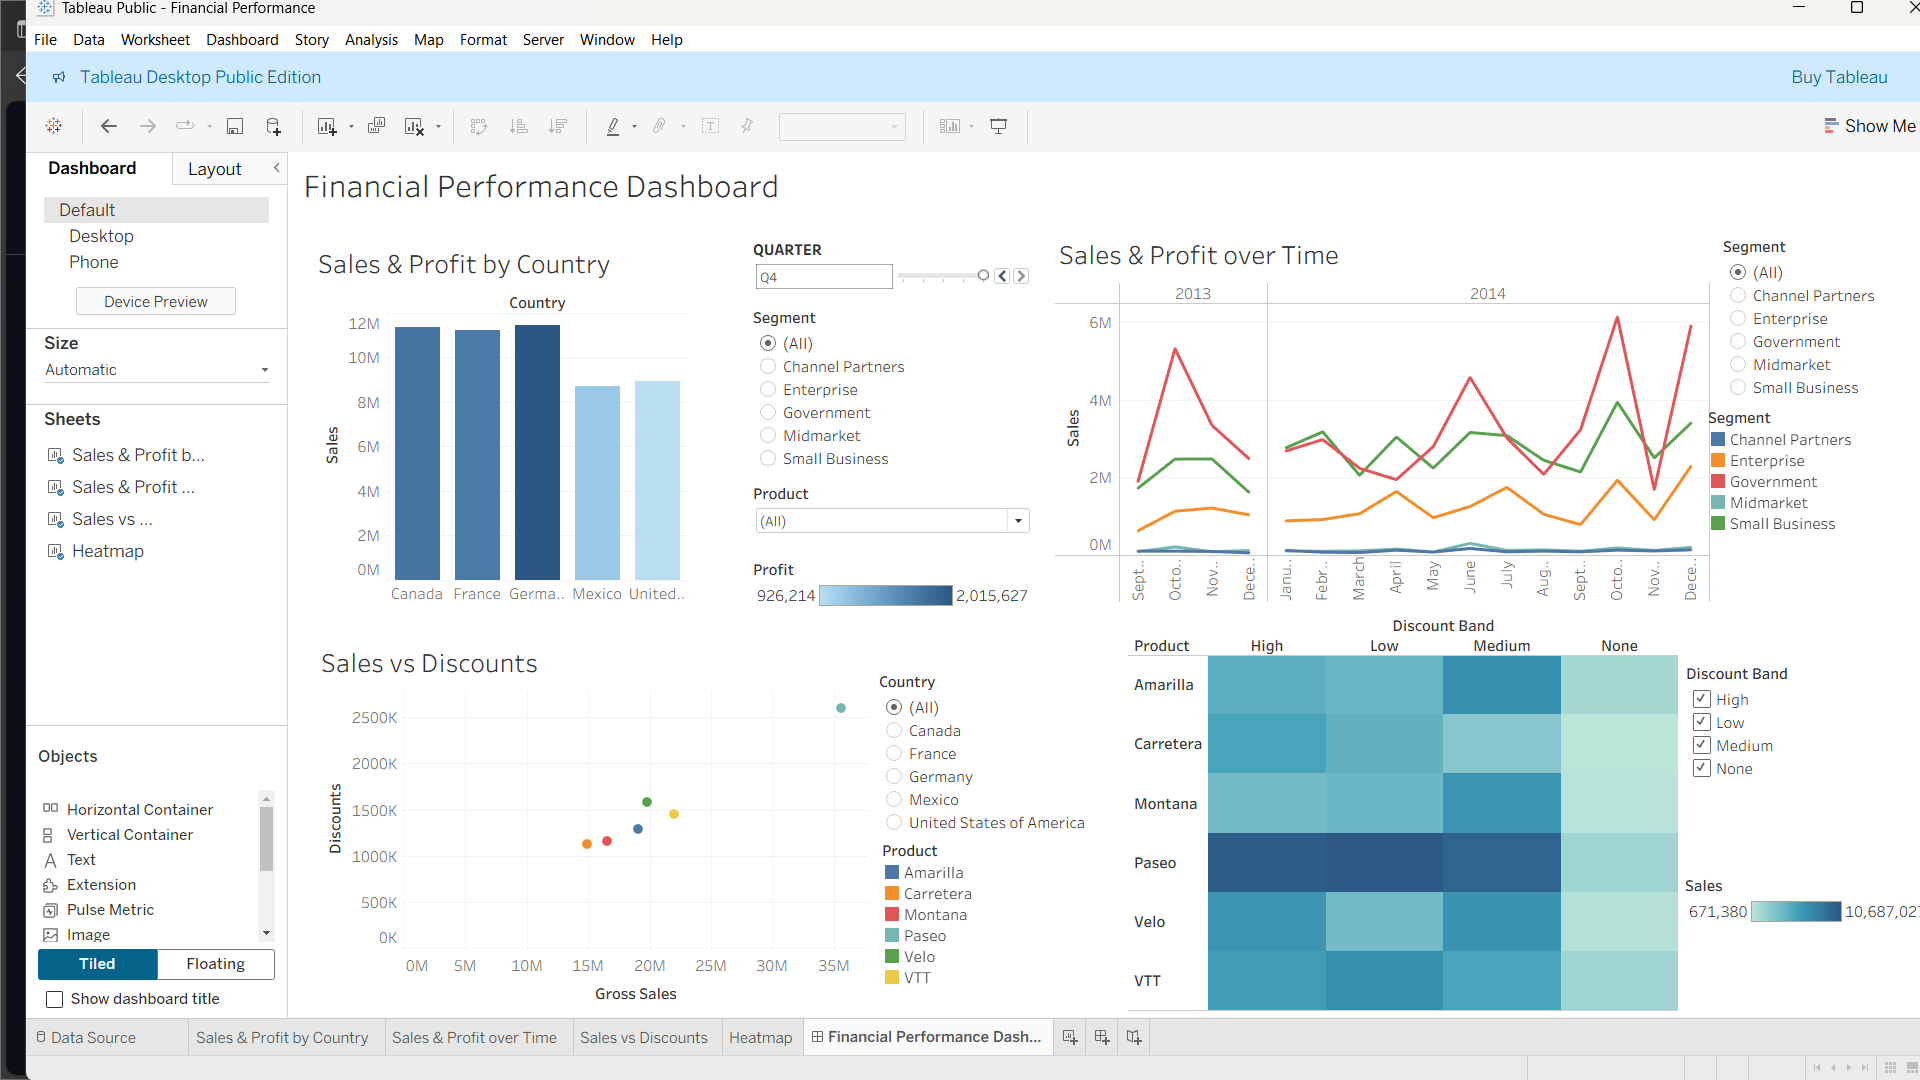

The dashboard page shown, as its layout file describes it:
{"tool":"tableau","page":{"name":"Financial Performance Dashboard","canvas":[1000,1000],"units":"permille","ordinal":0},"visuals":[{"type":"title","box":[5.3,9.3,989.5,58.1]},{"type":"worksheet","title":"Sales & Profit over Time","mark":"Line","rows":["Sales"],"cols":["Date","Month Name"],"box":[462.8,94.1,395.5,427.4]},{"type":"filter","title":"Sales & Profit by Country","param":"[federated.110apfc1dmbb1x19eawlh1p5id7r].[qr:Date:ok]","box":[278.2,96.4,174,79]},{"type":"filter","title":"Sales & Profit over Time","param":"[federated.110apfc1dmbb1x19eawlh1p5id7r].[none:Segment:nk]","box":[866.2,97.6,126.6,192.8]},{"type":"worksheet","title":"Sales & Profit by Country","mark":"Automatic","rows":["Sales"],"cols":["Country"],"box":[15.8,104.5,332.9,436.7]},{"type":"filter","title":"Sales & Profit by Country","param":"[federated.110apfc1dmbb1x19eawlh1p5id7r].[none:Segment:nk]","box":[278.2,175.4,174,204.4]},{"type":"legend","title":"Sales & Profit over Time","param":"[federated.110apfc1dmbb1x19eawlh1p5id7r].[none:Segment:nk]","box":[857,295,132.5,217.2]},{"type":"filter","title":"Sales & Profit by Country","param":"[federated.110apfc1dmbb1x19eawlh1p5id7r].[none:Product:nk]","box":[278.2,379.8,174,88.3]},{"type":"legend","title":"Sales & Profit by Country","param":"[federated.110apfc1dmbb1x19eawlh1p5id7r].[sum:Profit:qk]","box":[278.2,468.1,174,63.9]},{"type":"worksheet","title":"Heatmap","mark":"Automatic","rows":["Product"],"cols":["Discount Band"],"box":[506.9,535.4,332.2,457.6]},{"type":"worksheet","title":"Sales vs Discounts","mark":"Automatic","rows":["Discounts"],"cols":["Gross Sales"],"box":[17.8,565.6,332.2,427.4]},{"type":"filter","title":"Heatmap","param":"[federated.110apfc1dmbb1x19eawlh1p5id7r].[none:Discount Band:nk]","box":[843.8,591.2,156.9,159.1]},{"type":"filter","title":"Sales vs Discounts","param":"[federated.110apfc1dmbb1x19eawlh1p5id7r].[none:Country:nk]","box":[356.6,600.5,143.7,192.8]},{"type":"legend","title":"Sales vs Discounts","param":"[federated.110apfc1dmbb1x19eawlh1p5id7r].[none:Product:nk]","box":[358.6,795.6,136.4,171.9]},{"type":"legend","title":"Heatmap","param":"[federated.110apfc1dmbb1x19eawlh1p5id7r].[sum:Sales:qk]","box":[843.1,836.2,148.3,103.4]}]}

Visuals, with their boxes on the dashboard's canvas, which has no fixed pixel size, in thousandths of its width and height (x1, y1, x2, y2). These are canvas units, not pixel positions in the 1920x1080 screenshot, which may show the page scaled, cropped or inside an application window:
title: l=5, t=9, r=995, b=67
"Sales & Profit over Time" worksheet (Line marks): l=463, t=94, r=858, b=522
"Sales & Profit by Country" filter: l=278, t=96, r=452, b=175
"Sales & Profit over Time" filter: l=866, t=98, r=993, b=290
"Sales & Profit by Country" worksheet: l=16, t=104, r=349, b=541
"Sales & Profit by Country" filter: l=278, t=175, r=452, b=380
"Sales & Profit over Time" legend: l=857, t=295, r=990, b=512
"Sales & Profit by Country" filter: l=278, t=380, r=452, b=468
"Sales & Profit by Country" legend: l=278, t=468, r=452, b=532
"Heatmap" worksheet: l=507, t=535, r=839, b=993
"Sales vs Discounts" worksheet: l=18, t=566, r=350, b=993
"Heatmap" filter: l=844, t=591, r=1001, b=750
"Sales vs Discounts" filter: l=357, t=600, r=500, b=793
"Sales vs Discounts" legend: l=359, t=796, r=495, b=968
"Heatmap" legend: l=843, t=836, r=991, b=940
